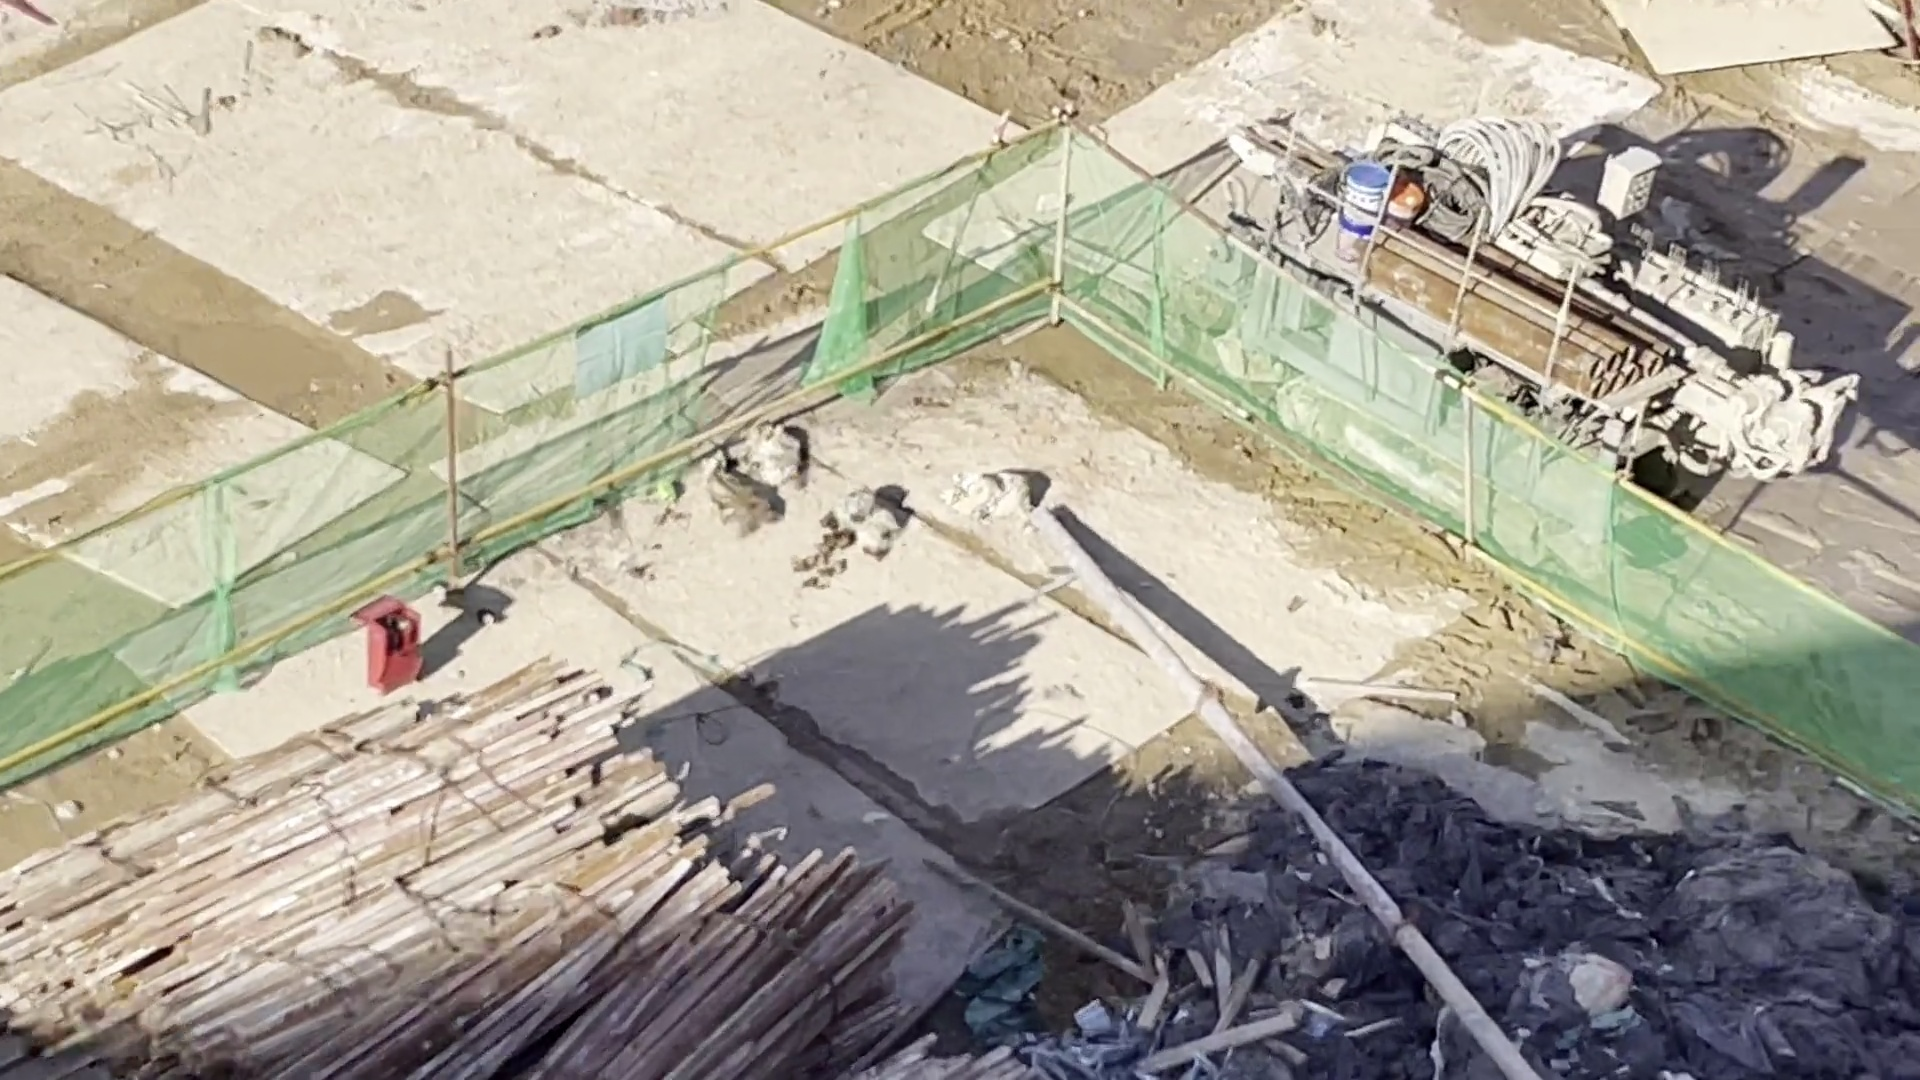wood: (1, 655, 679, 1067), (194, 785, 690, 1059), (1, 709, 426, 916), (483, 870, 894, 1080)
